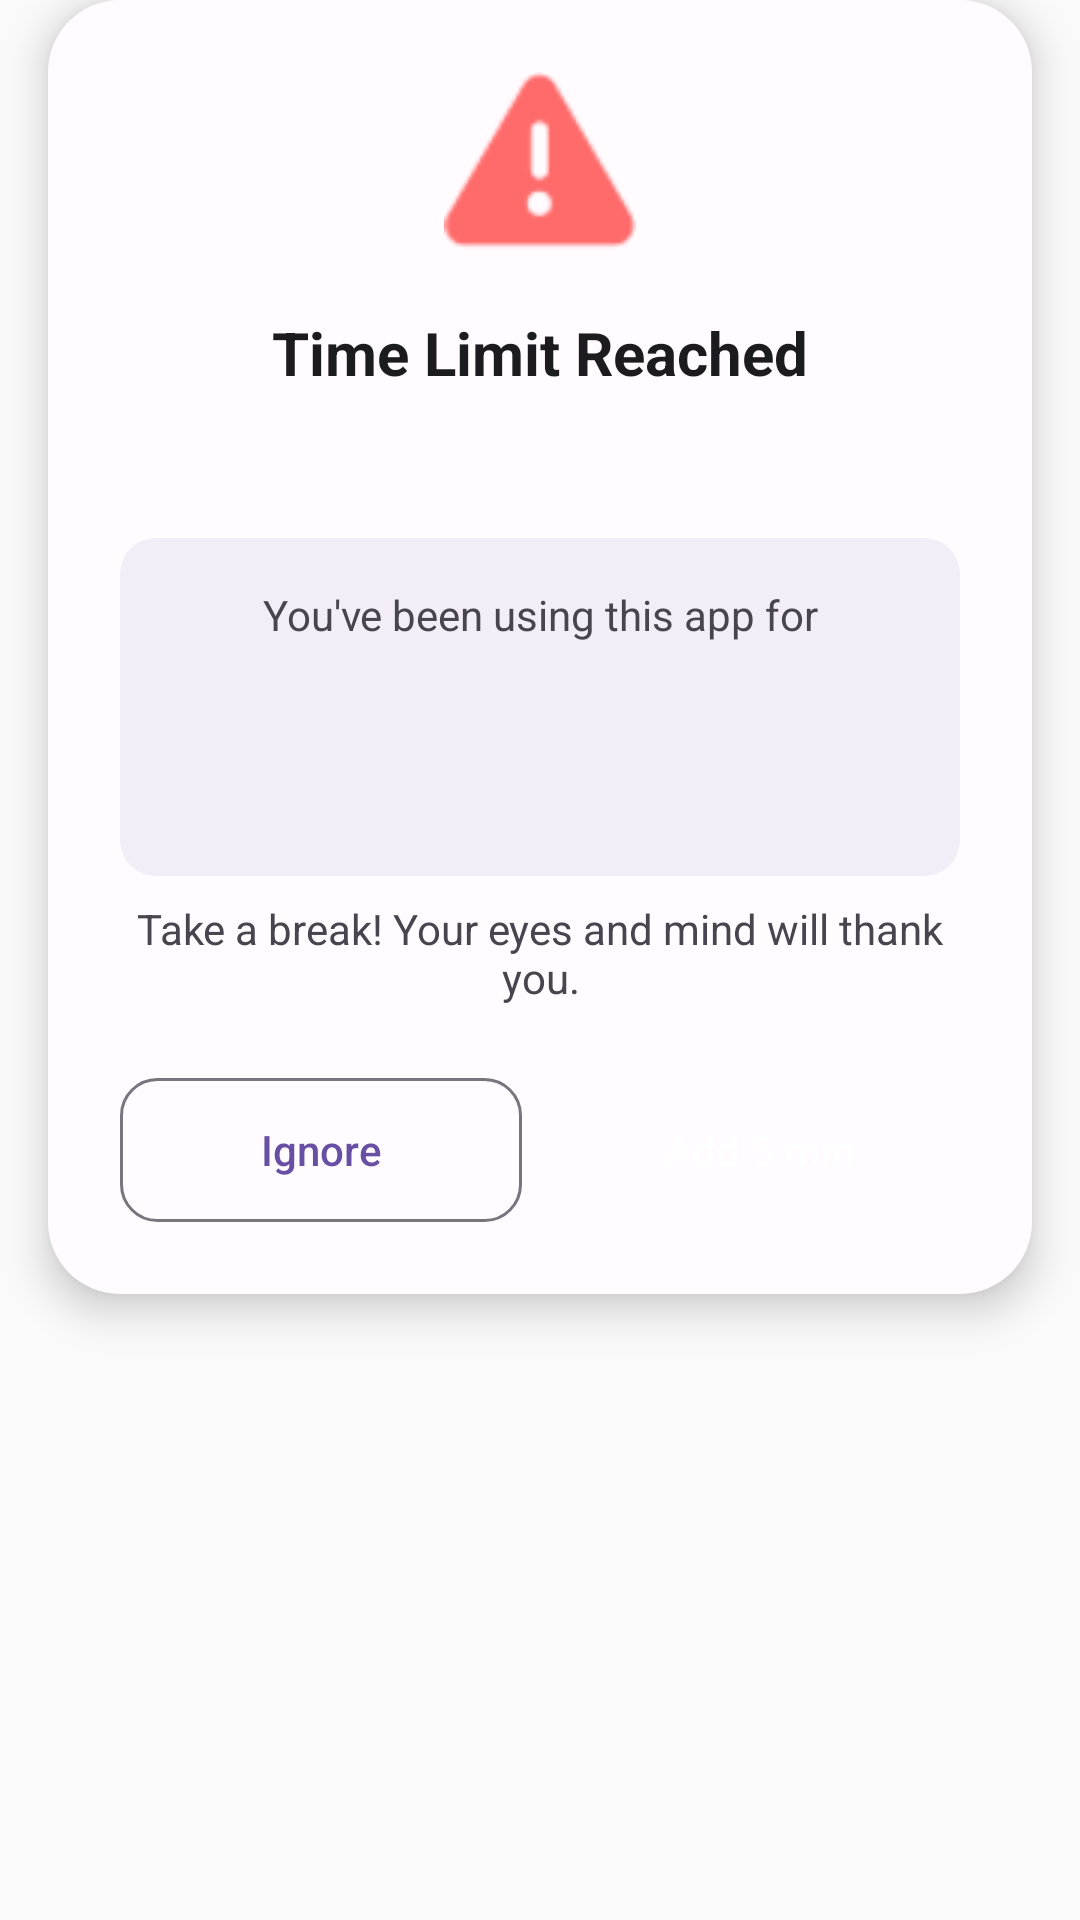

Icons on this 1080px×1920px Android screen, each with the point to tap as point (x, y):
Warning: point (540, 159)
